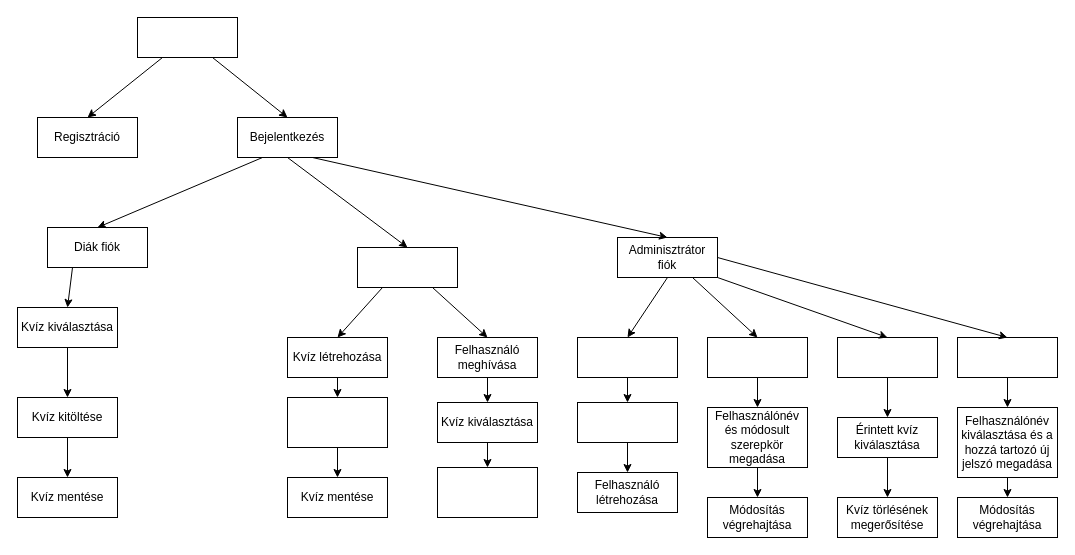
Some shapes in this 1075 by 555 pixel diagram are drawn without their labels. Each missing label, with the centre of its shape:
"Felhasználó adatainak megadása" belongs at (627,422).
"Felhasználó jelszavának visszaállítása" belongs at (1007,357).
"Felhasználó megadása a meghíváshoz" belongs at (487,492).
"Főoldal" belongs at (187,37).
"Kvíz kérdéseinek és válaszainak megadása" belongs at (337,422).
"Kvíz törlése" belongs at (887,357).
"Szerepkör módosítása" belongs at (757,357).
"Tanár fiók" belongs at (407,267).
"Új felhasználó felvétele" belongs at (627,357).
